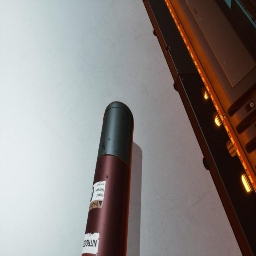NitrogenTank ,: (81, 101, 134, 256)
